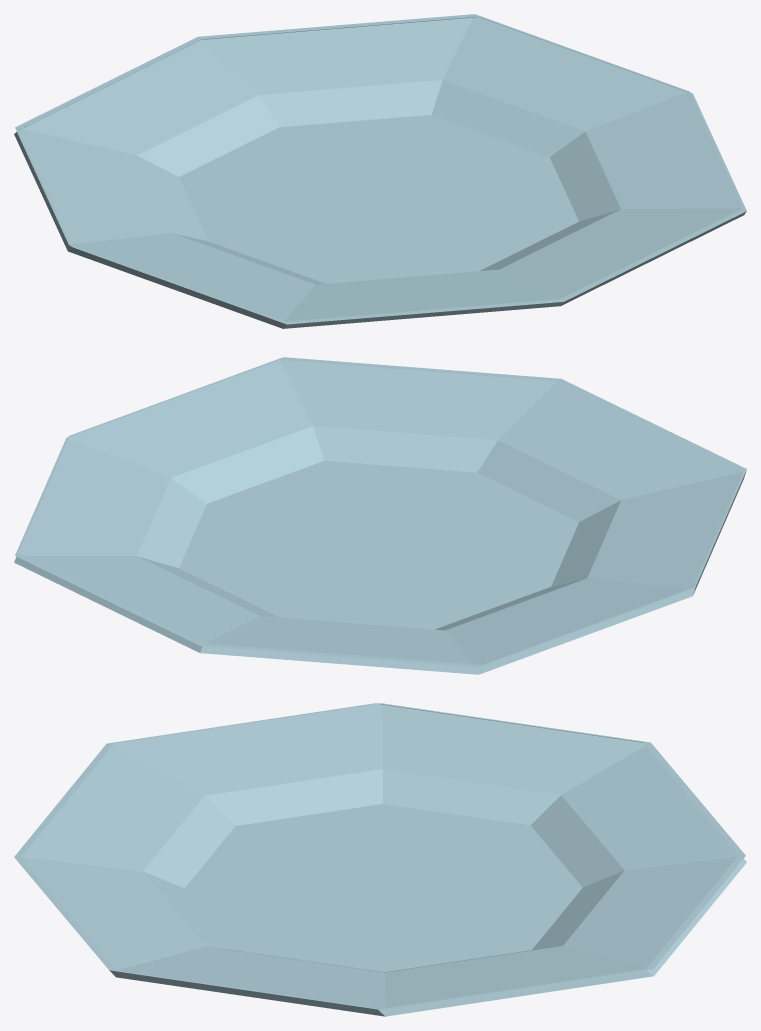
File: Kitchen_Plate2.fbx
3 views of the same model, one above another, from view 1: azimuth 30°, elevation 25°; view 2: azimuth 150°, elevation 25°; view 3: azimuth 270°, elevation 25° (orthographic).
Parts seen in each view (by area): view 1: Kitchen_Plate2; view 2: Kitchen_Plate2; view 3: Kitchen_Plate2.
Boxes of the visible parts, x1,y1,x2,y2 form: Kitchen_Plate2: (14, 14, 746, 328); Kitchen_Plate2: (14, 357, 746, 674); Kitchen_Plate2: (14, 703, 746, 1016).
Size of the model in its own units: 28.16 by 1.64 by 28.41.
